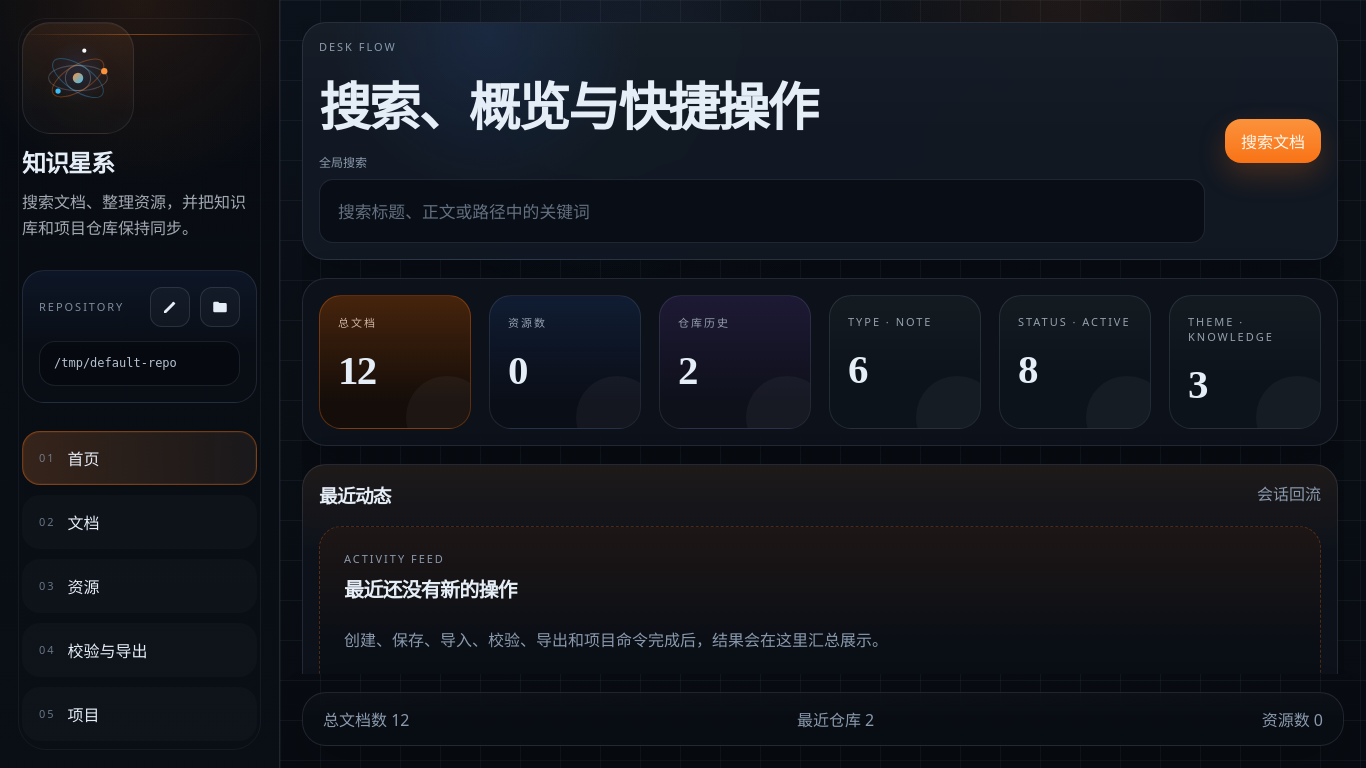
App › expands a migration draft to review origin and markdown body before import
The width and height of the screenshot is (1366, 768).
Expected: the text "/tmp/default-repo" is shown, [39, 341, 240, 386]
Click the button "03 资源": (140, 586) [22, 559, 257, 613]
(page scrolled)
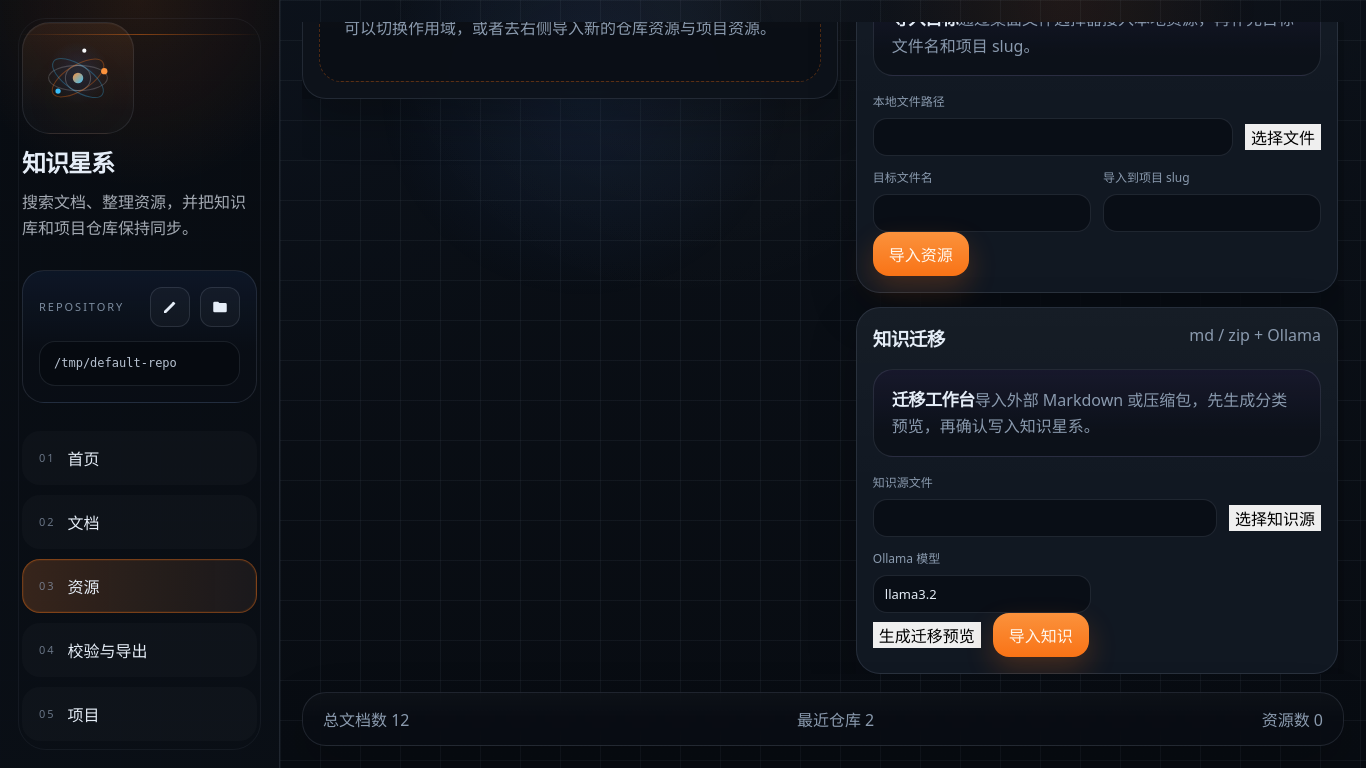
Click the button "选择知识源": (1275, 518) [1229, 505, 1321, 531]
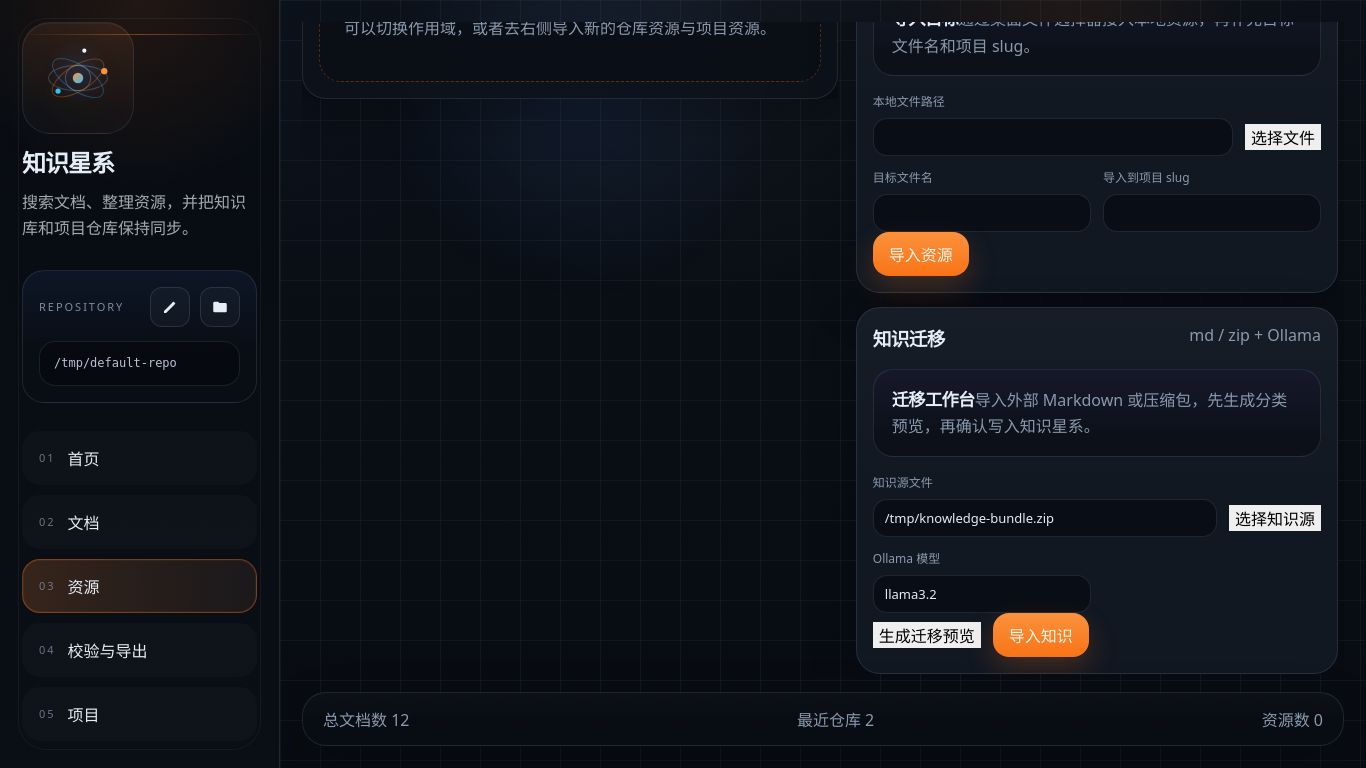
Expected: the field showing "/tmp/knowledge-bundle.zip" is shown, [873, 499, 1217, 537]
Click the button "生成迁移预览": (927, 635) [873, 622, 981, 648]
(page scrolled)
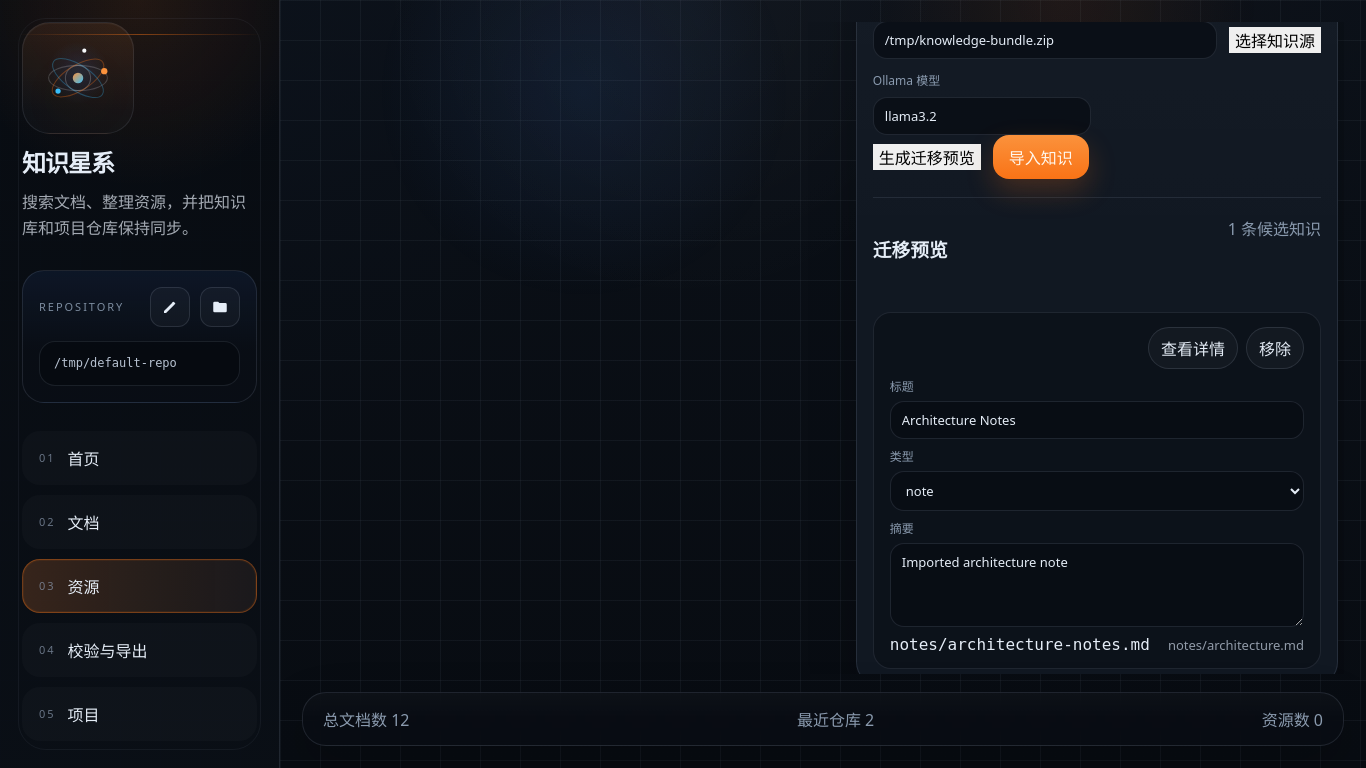
Expected: the field showing "Architecture Notes" is shown, [890, 401, 1304, 439]
Click the button with aria-label "展开候选项 Architecture Notes": (1193, 348) [1148, 327, 1238, 369]
(page scrolled)
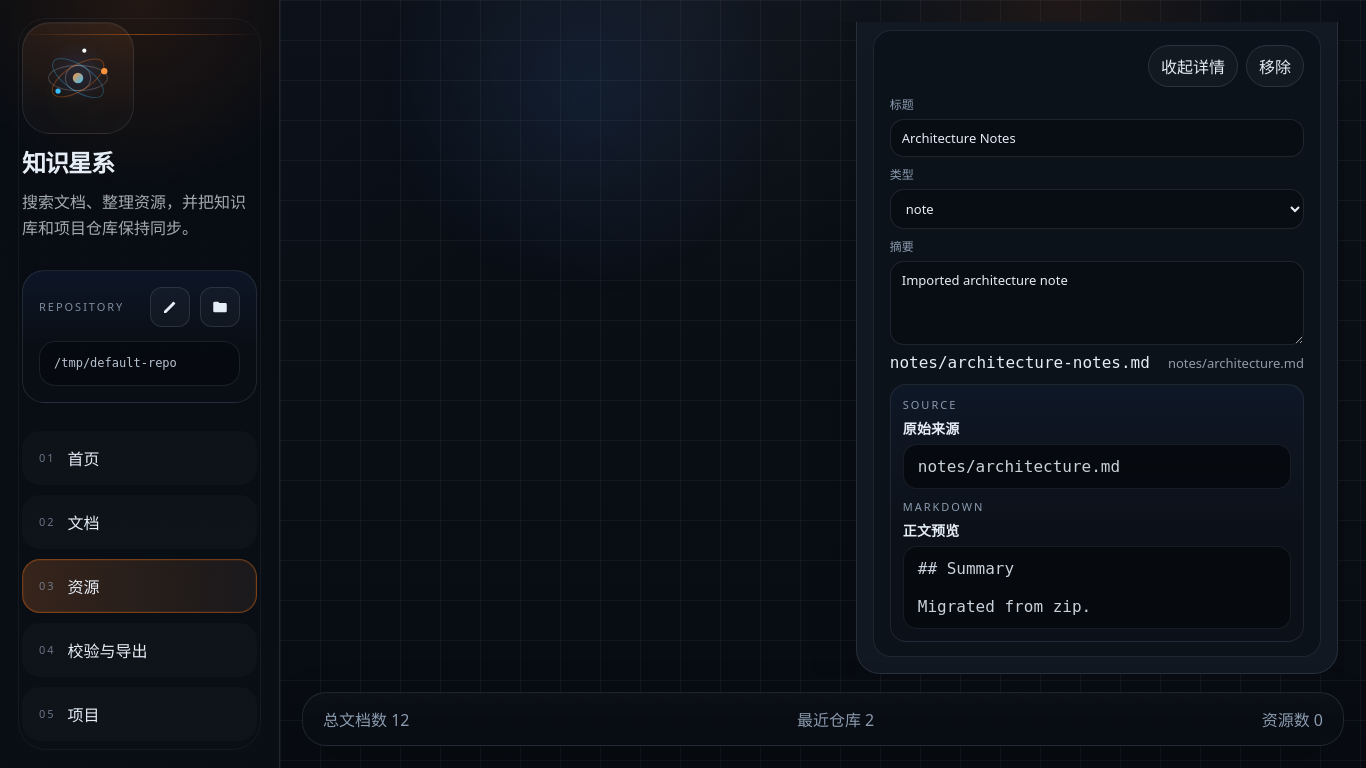
Expected: the text "原始来源" is shown, [903, 419, 959, 438]
Expected: the text "正文预览" is shown, [903, 521, 959, 540]
Expected: the text "## Summary Migrated from zip." is shown, [903, 546, 1291, 629]
